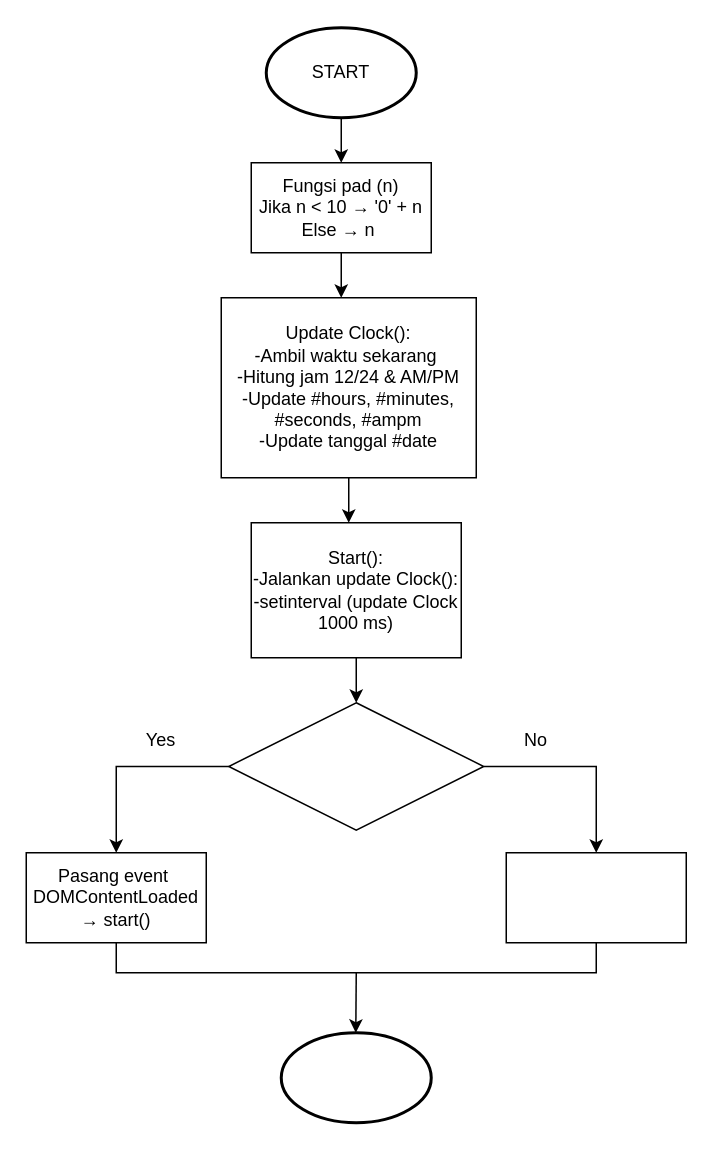
This 713x1149 diagram has some shape labels left out. Here are the shapes that lost their labels. From the top down, the centre of each, then its label:
point (355, 765): document ready State = "loading"
point (595, 897): Langsung jalankan start()
point (355, 1077): End
